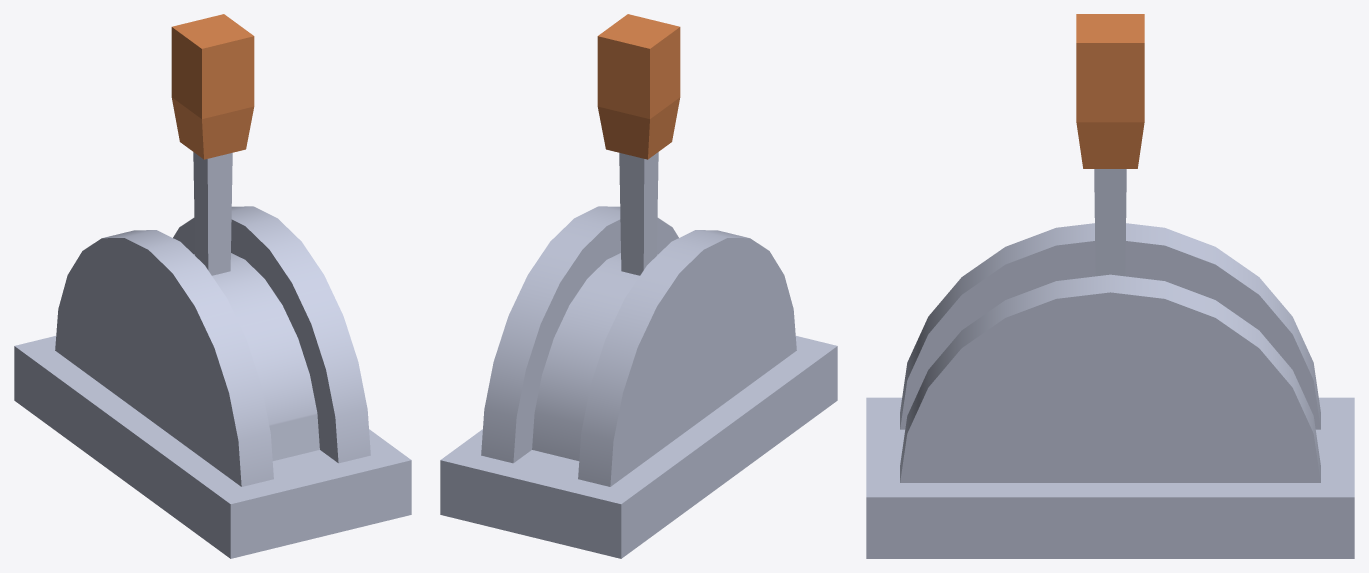
Rendered from lever.fbx.
The picture shows the model from 3 angles, left to right: view 1: azimuth 30°, elevation 25°; view 2: azimuth 150°, elevation 25°; view 3: azimuth 270°, elevation 25°; orthographic projection. The views are drawn at different scales.
Visible parts, largest first — view 1: lever, handle; view 2: lever, handle; view 3: lever, handle.
Boxes of the visible parts, x1=… form: lever: x1=14, y1=206, x2=411, y2=558; handle: x1=171, y1=14, x2=254, y2=275; lever: x1=440, y1=206, x2=837, y2=558; handle: x1=597, y1=14, x2=680, y2=275; lever: x1=866, y1=223, x2=1354, y2=558; handle: x1=1076, y1=14, x2=1144, y2=276.
Size of the model in its own units: 2.8 by 6.3 by 5.8.
